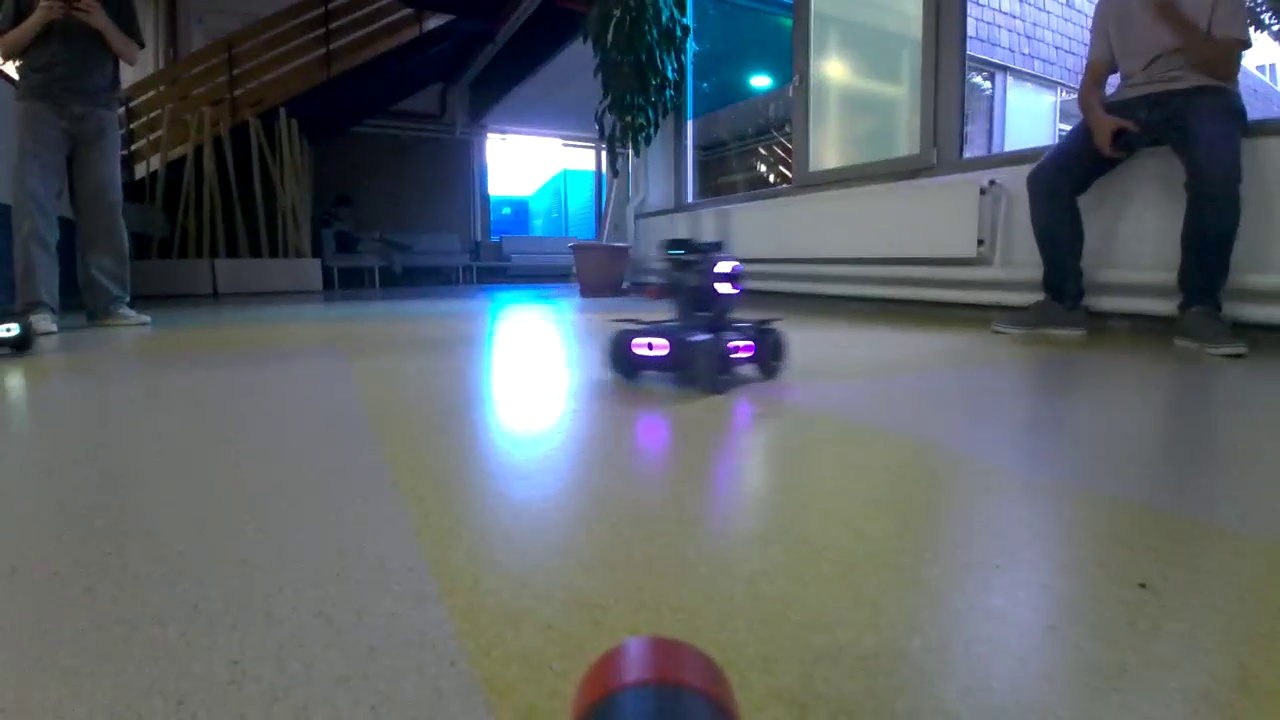robot: (612, 238, 792, 396)
